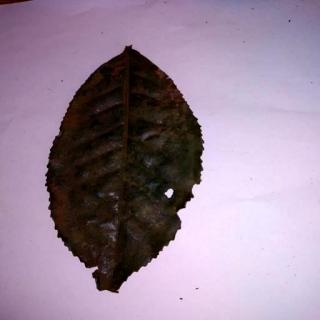Bird Eye Spot: (48, 46, 203, 296)
